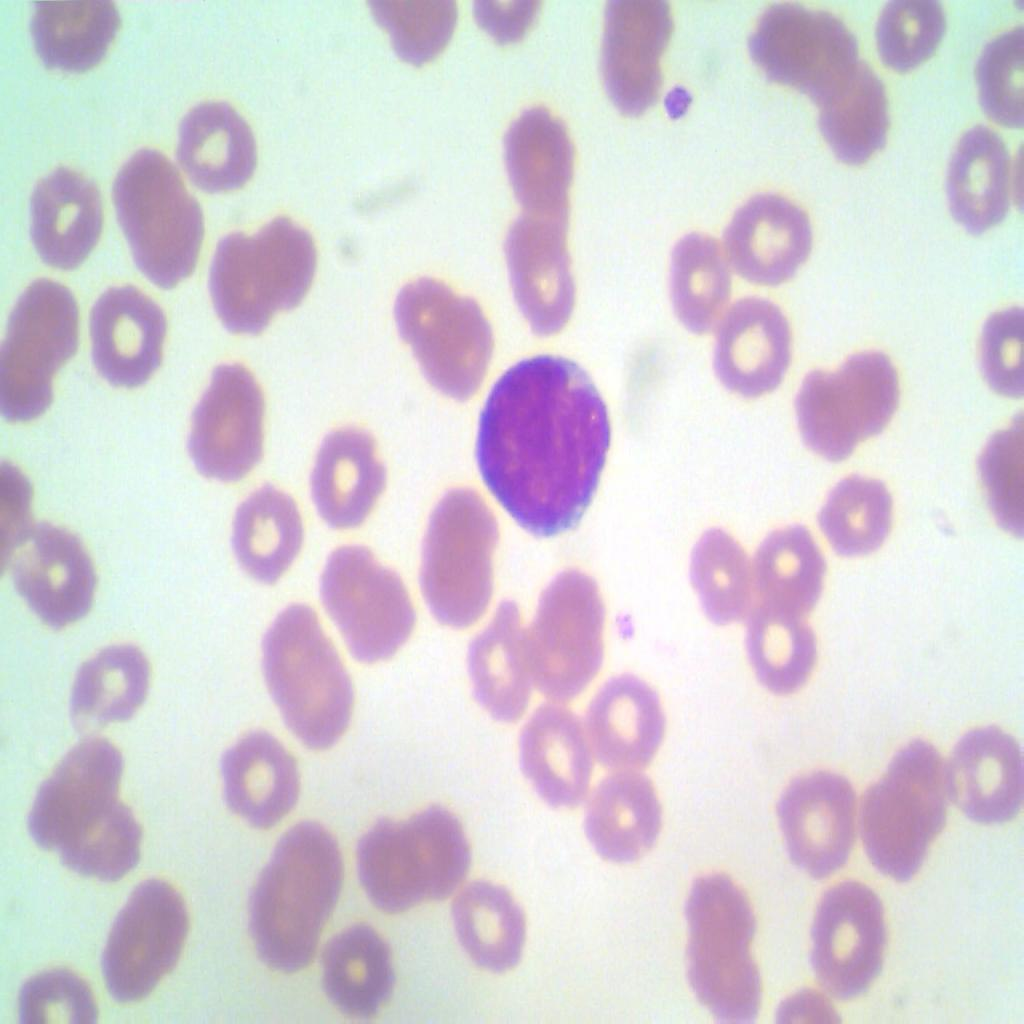Eritrosit: (418, 467, 502, 627), (398, 266, 494, 401), (93, 874, 186, 1004), (716, 174, 816, 294), (172, 81, 266, 205), (516, 568, 609, 692), (935, 704, 1023, 829), (935, 122, 1023, 245), (84, 272, 176, 388), (301, 422, 396, 534), (126, 147, 204, 282), (181, 364, 269, 482), (28, 734, 121, 844), (498, 222, 586, 338), (19, 154, 108, 268), (508, 696, 598, 808), (803, 886, 894, 996), (495, 104, 582, 212), (571, 764, 664, 864), (663, 221, 733, 351), (715, 288, 793, 404), (216, 719, 298, 828), (0, 278, 73, 395), (813, 467, 896, 569), (594, 0, 672, 108), (746, 601, 826, 705), (684, 524, 759, 634), (73, 625, 150, 732), (451, 865, 524, 977), (323, 927, 408, 1023), (64, 802, 151, 895), (786, 754, 855, 871), (586, 672, 666, 772), (461, 612, 536, 717), (394, 798, 470, 901), (6, 530, 98, 615), (250, 878, 333, 971), (855, 765, 929, 868), (252, 818, 338, 905), (26, 2, 122, 77), (833, 340, 898, 450), (252, 592, 322, 694), (834, 68, 900, 175), (682, 868, 768, 950), (683, 931, 759, 1023), (238, 477, 304, 581), (344, 580, 421, 669), (293, 664, 363, 760), (244, 214, 318, 304), (888, 724, 953, 825), (355, 804, 414, 914), (789, 367, 858, 461), (9, 954, 101, 1023), (789, 18, 855, 109), (756, 517, 822, 607), (746, 4, 814, 89), (211, 228, 263, 332), (875, 0, 944, 77), (978, 31, 1024, 139), (0, 344, 58, 424), (318, 539, 372, 614)
Limfoblast: (469, 345, 616, 544)
Platelet: (664, 84, 699, 127)
